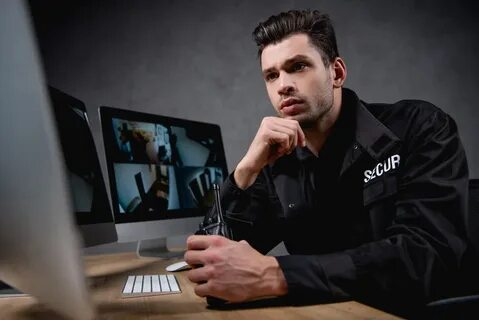awake: (183, 8, 470, 305)
